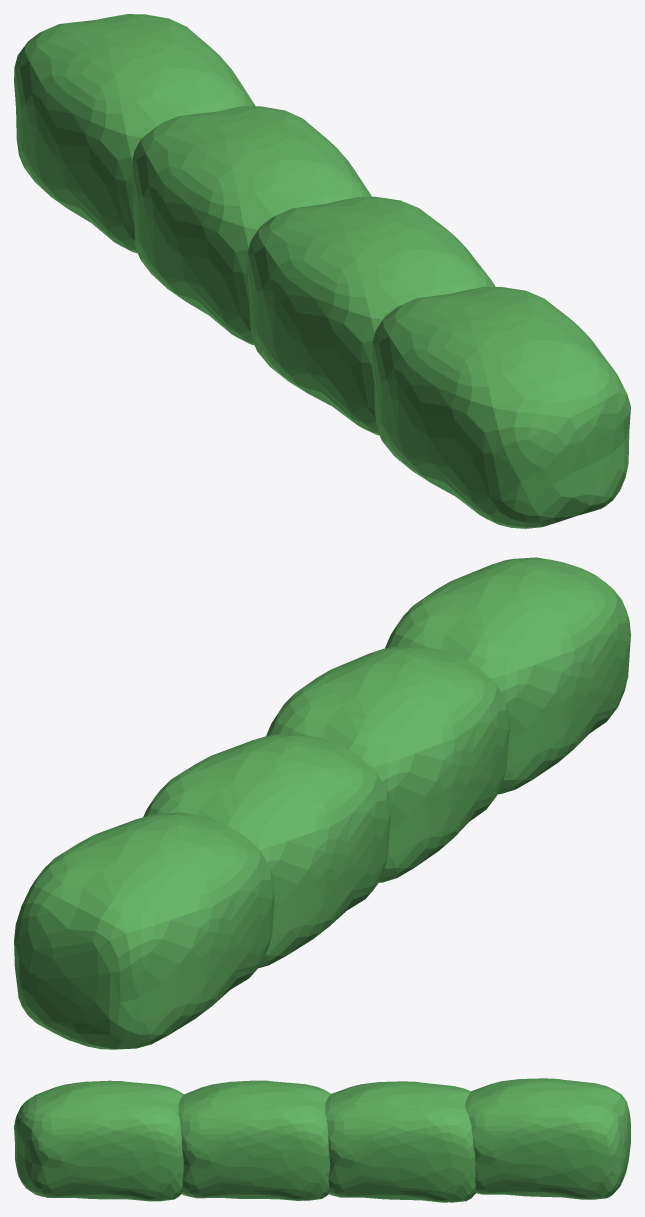
Rendered from arbusto4Largos.glb.
The picture shows the model from 3 angles, top to bottom: view 1: azimuth 30°, elevation 25°; view 2: azimuth 150°, elevation 25°; view 3: azimuth 270°, elevation 25°; orthographic projection. The views are drawn at different scales.
Visible parts, largest first — view 1: Icosphere.003; view 2: Icosphere.003; view 3: Icosphere.003.
Part boxes in pixels (<box>): Icosphere.003: <box>14,14,630,528</box>; Icosphere.003: <box>14,557,630,1049</box>; Icosphere.003: <box>14,1078,630,1202</box>.
Bounding box in the file's own units: 0.4403 × 0.4193 × 2.25.
